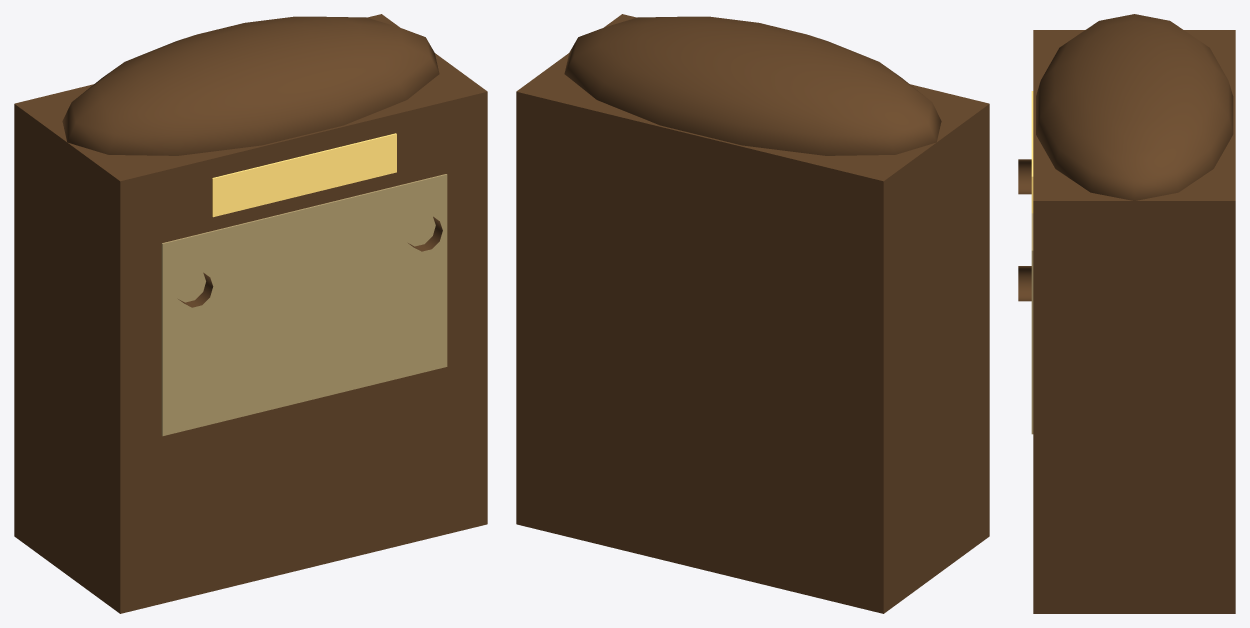
File: radio_retro.glb
3 renders of one model, left to right at view 1: azimuth 30°, elevation 25°; view 2: azimuth 150°, elevation 25°; view 3: azimuth 270°, elevation 25°, orthographic. The views are drawn at different scales.
Parts seen in each view (by area): view 1: radio_retro; view 2: radio_retro; view 3: radio_retro.
Part boxes in pixels (bbox=[...]): radio_retro: bbox=[14, 14, 487, 613]; radio_retro: bbox=[516, 14, 989, 613]; radio_retro: bbox=[1018, 14, 1235, 613].
Size of the model in its own units: 0.8 by 1.02 by 0.43.
